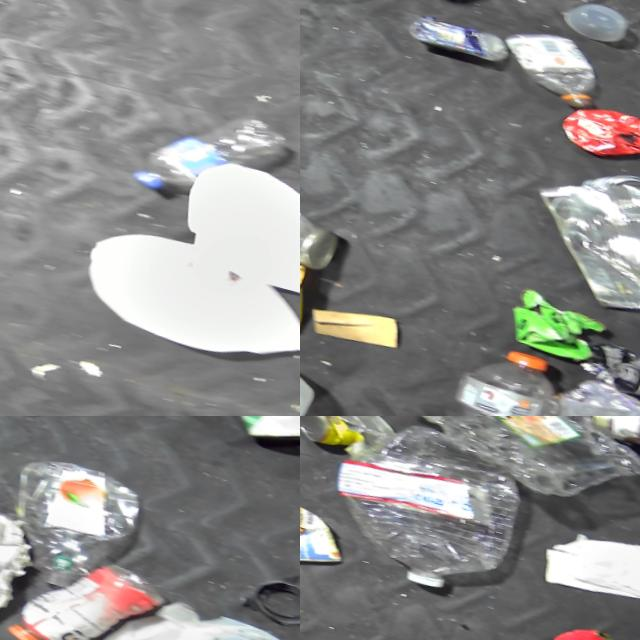can: (513, 146, 640, 332), (554, 92, 640, 166), (300, 416, 407, 459), (300, 190, 350, 270), (209, 416, 300, 457), (545, 614, 640, 640), (300, 247, 323, 333), (588, 416, 640, 442)
milk_jug: (72, 215, 300, 377), (170, 150, 300, 306), (70, 573, 300, 640)
plastic_bottle: (312, 416, 540, 601), (0, 446, 151, 600), (131, 87, 300, 221), (438, 333, 577, 416), (492, 17, 613, 109)
